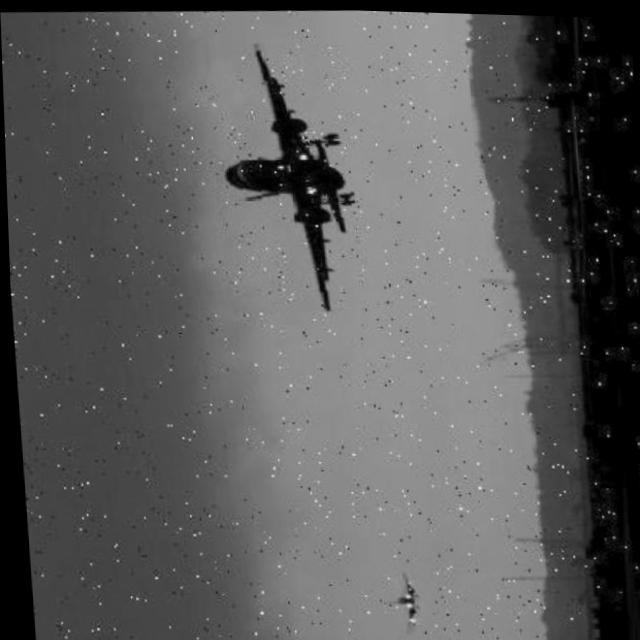aeroplane: (200, 30, 362, 314), (372, 568, 414, 628)
